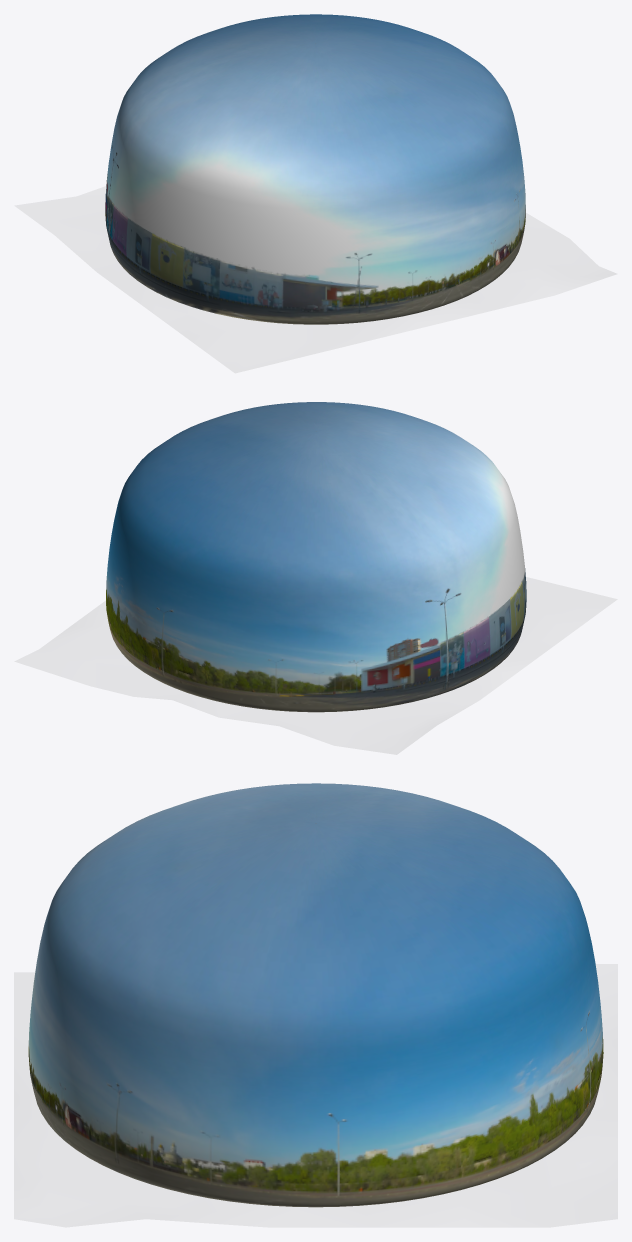
The model's file is Kargo_EV_ENV.gltf.
3 views of the same model, one above another, from view 1: azimuth 30°, elevation 25°; view 2: azimuth 150°, elevation 25°; view 3: azimuth 270°, elevation 25° (orthographic). The views are drawn at different scales.
Visible parts, largest first — view 1: ENV_Dome, Water; view 2: ENV_Dome, Water; view 3: ENV_Dome, Water.
Part boxes in pixels (x1,y1,x2,y2): ENV_Dome: (105,14,525,324); Water: (15,186,616,372); ENV_Dome: (106,402,526,712); Water: (15,577,617,754); ENV_Dome: (28,783,603,1207); Water: (14,964,617,1227).
Bounding box in the file's own units: 271 × 137 × 271.
